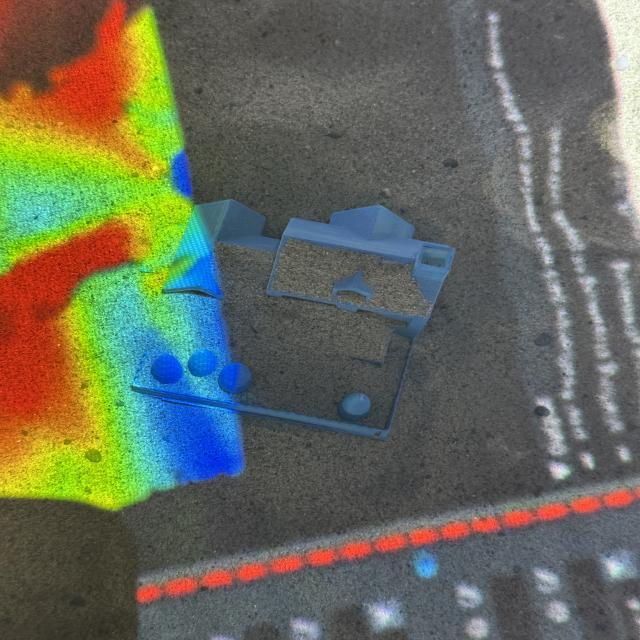house: (134, 198, 456, 440)
